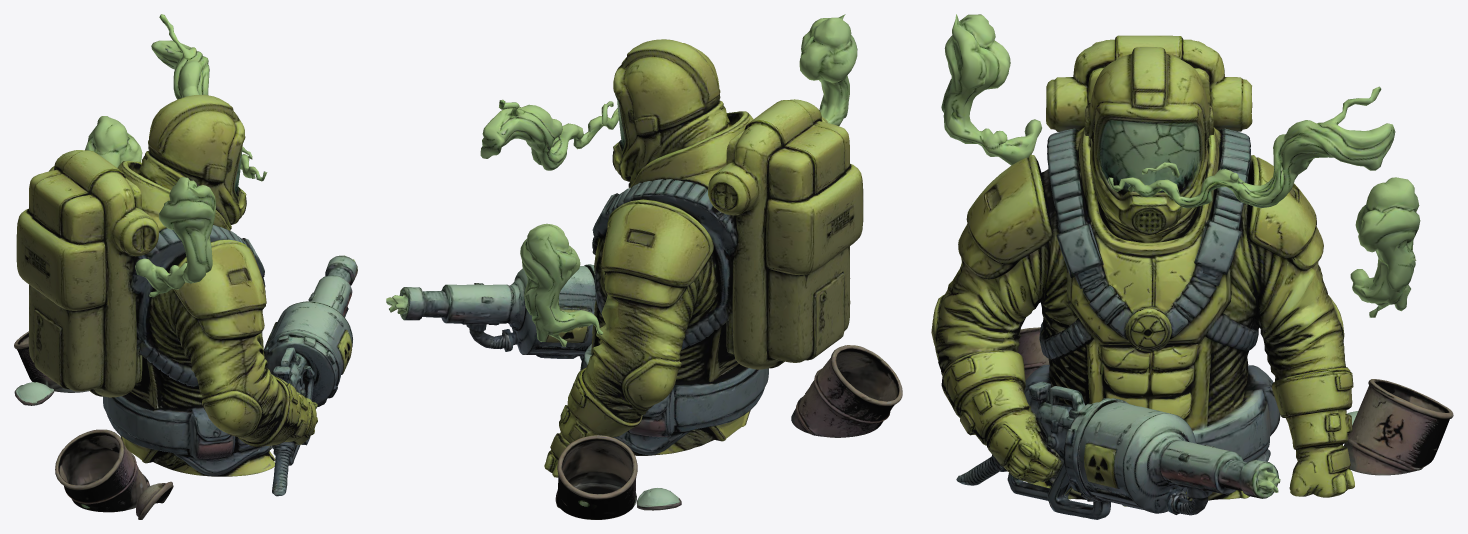
File: hazmat3d.glb
3 renders of one model, left to right at view 1: azimuth 30°, elevation 25°; view 2: azimuth 150°, elevation 25°; view 3: azimuth 270°, elevation 25°, orthographic. The views are drawn at different scales.
Visible parts, largest first — view 1: tripo_node_b2e70038-ffce-4908-a527-5667241fabaa; view 2: tripo_node_b2e70038-ffce-4908-a527-5667241fabaa; view 3: tripo_node_b2e70038-ffce-4908-a527-5667241fabaa.
Part boxes in pixels (box(x1,y1,x2,y2)): tripo_node_b2e70038-ffce-4908-a527-5667241fabaa: box(14, 14, 357, 519); tripo_node_b2e70038-ffce-4908-a527-5667241fabaa: box(386, 14, 902, 519); tripo_node_b2e70038-ffce-4908-a527-5667241fabaa: box(931, 14, 1453, 519).
Bounding box in the file's own units: 1 × 0.8639 × 0.9621.
1 material, 1 textured.
